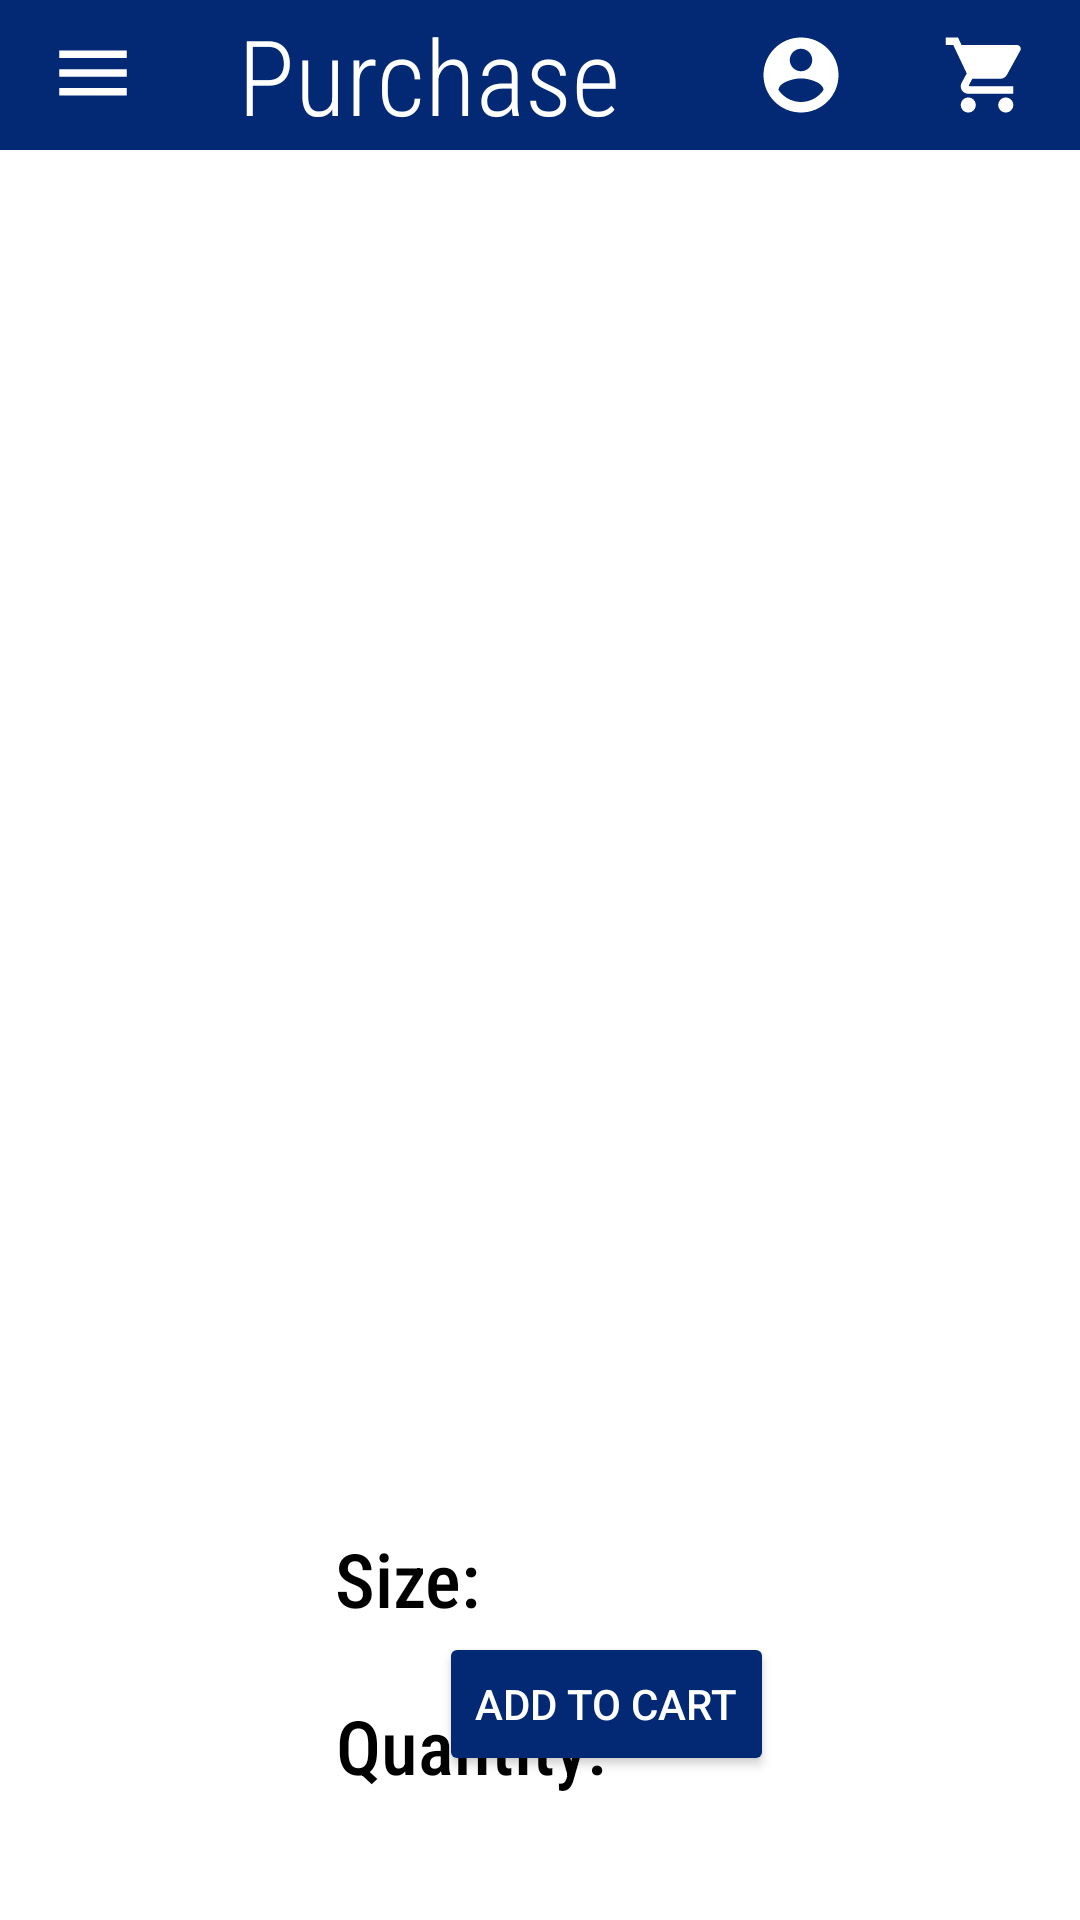

Screen size 1080x1920. Icon name, then its box in pixels as (x1, y1, x2, y2):
Profile Button: (763, 37, 839, 113)
Shopping Cart Button: (945, 37, 1021, 113)
